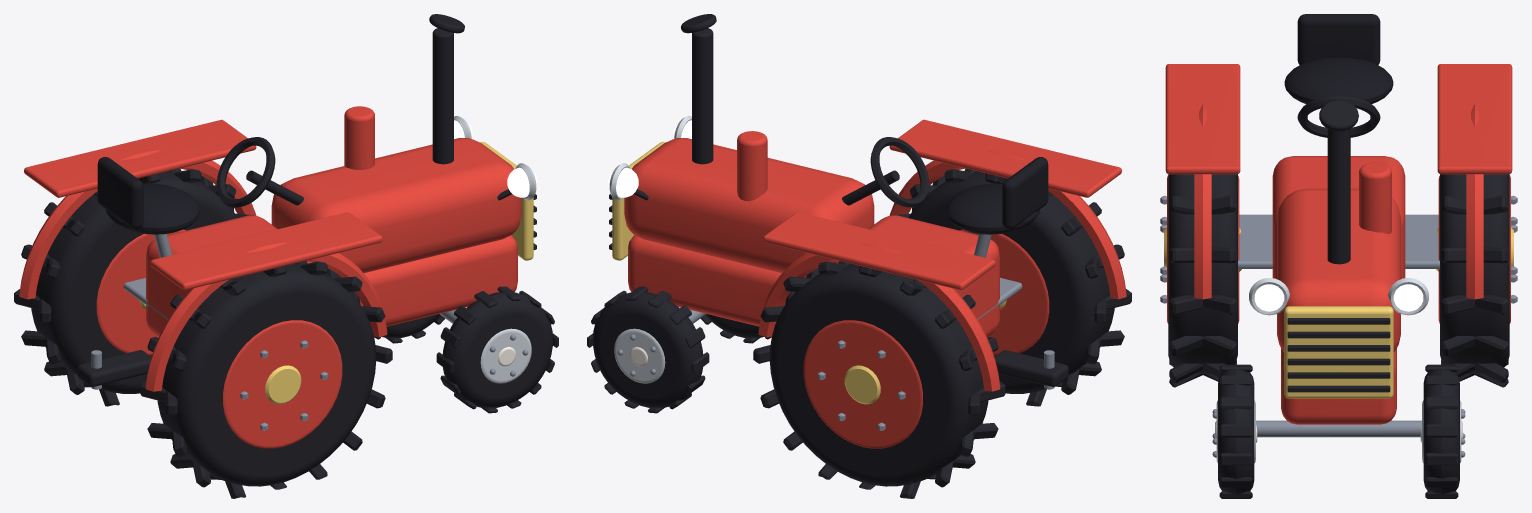
The model's file is tractor.glb.
The picture shows the model from 3 angles, left to right: view 1: azimuth 30°, elevation 25°; view 2: azimuth 150°, elevation 25°; view 3: azimuth 270°, elevation 25°; orthographic projection. The views are drawn at different scales.
Parts seen in each view (by area): view 1: tractor; view 2: tractor; view 3: tractor.
Boxes of the visible parts, x1=… form: tractor: x1=14, y1=14, x2=558, y2=498; tractor: x1=587, y1=14, x2=1131, y2=498; tractor: x1=1160, y1=14, x2=1517, y2=498.
Bounding box in the file's own units: 3.23 × 2.55 × 2.15.
Materials: 1 (1 with a texture image).
